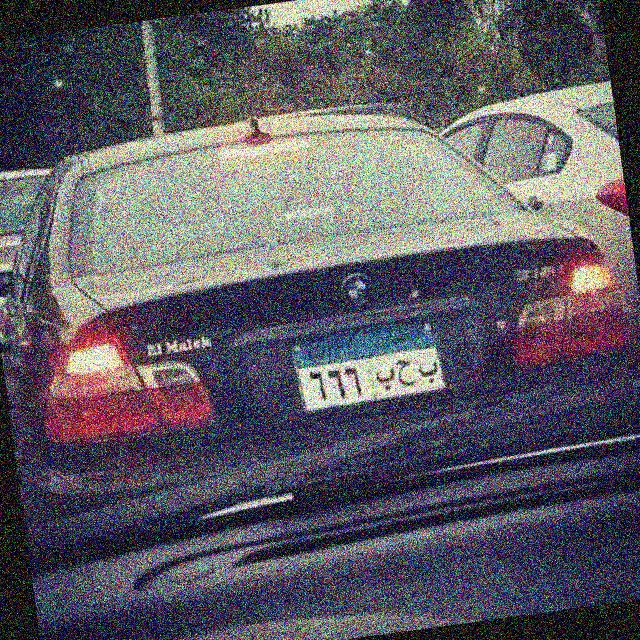License Plate: (287, 318, 449, 416)
